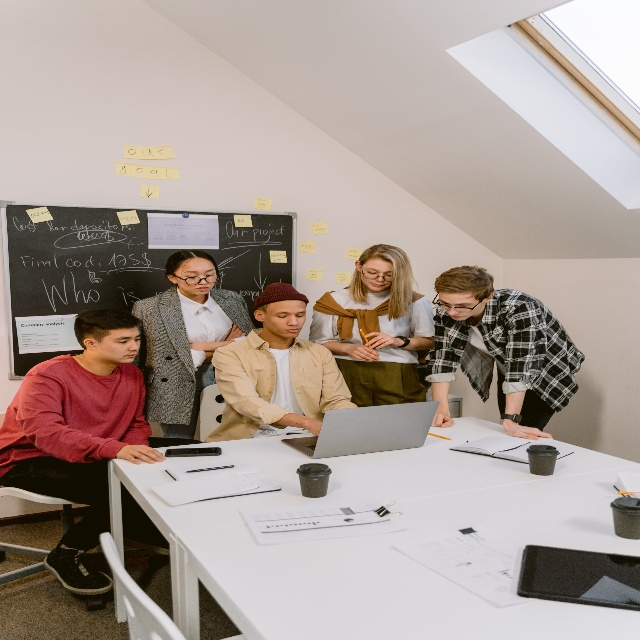Gafas: (432, 292, 485, 313), (172, 270, 222, 286), (360, 263, 393, 282)
Sin_guantes: (116, 443, 167, 465), (505, 419, 554, 441), (363, 329, 400, 349), (347, 342, 380, 363), (224, 320, 244, 341), (305, 415, 323, 437), (429, 413, 454, 428)
